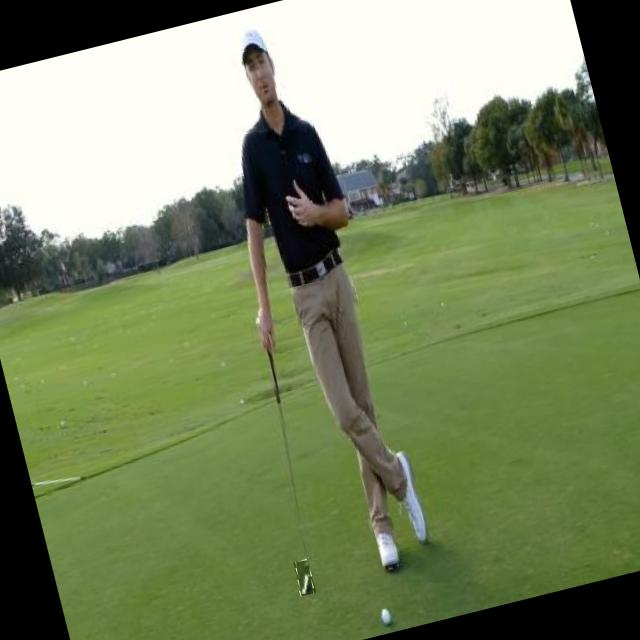club head: (292, 558, 316, 596)
